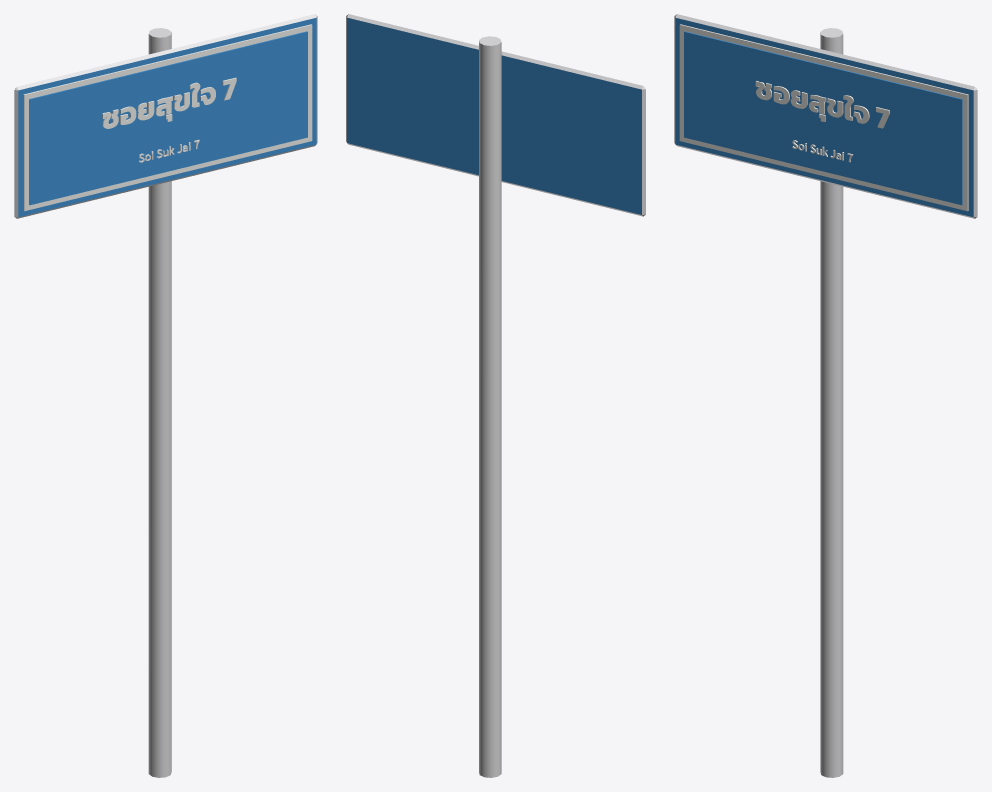
The model's file is SM_SoiSign.fbx.
3 views of the same model, side by side, from view 1: azimuth 30°, elevation 25°; view 2: azimuth 150°, elevation 25°; view 3: azimuth 330°, elevation 25° (orthographic).
Parts seen in each view (by area): view 1: SM_SoiSign; view 2: SM_SoiSign; view 3: SM_SoiSign.
Part boxes in pixels (x1,y1,x2,y2): SM_SoiSign: (14, 14, 317, 777); SM_SoiSign: (346, 14, 645, 777); SM_SoiSign: (674, 14, 977, 777).
Bounding box in the file's own units: 1.2 × 2.8 × 0.105.
